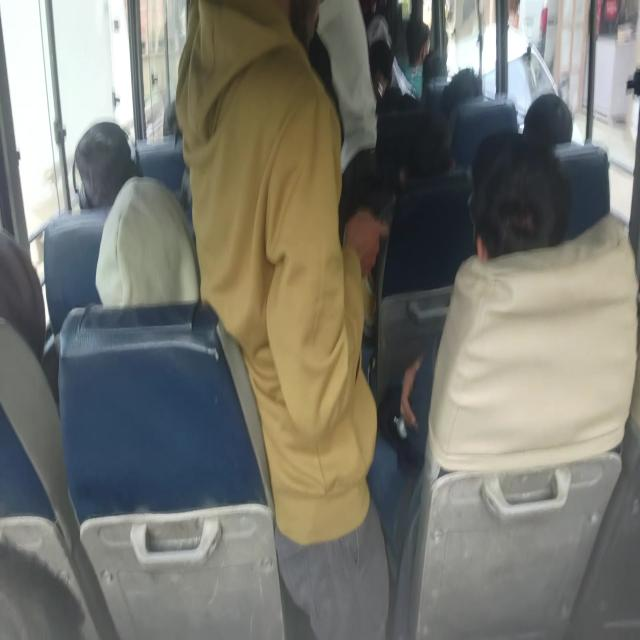person: (180, 0, 376, 386), (291, 0, 359, 216), (474, 132, 566, 264), (330, 0, 385, 192), (110, 181, 178, 312), (0, 232, 54, 332), (76, 122, 138, 199), (0, 563, 49, 640), (404, 124, 453, 198), (525, 82, 567, 156), (450, 60, 482, 114), (408, 21, 436, 66), (162, 102, 186, 153), (423, 45, 446, 93), (371, 46, 392, 88), (389, 77, 411, 113)
